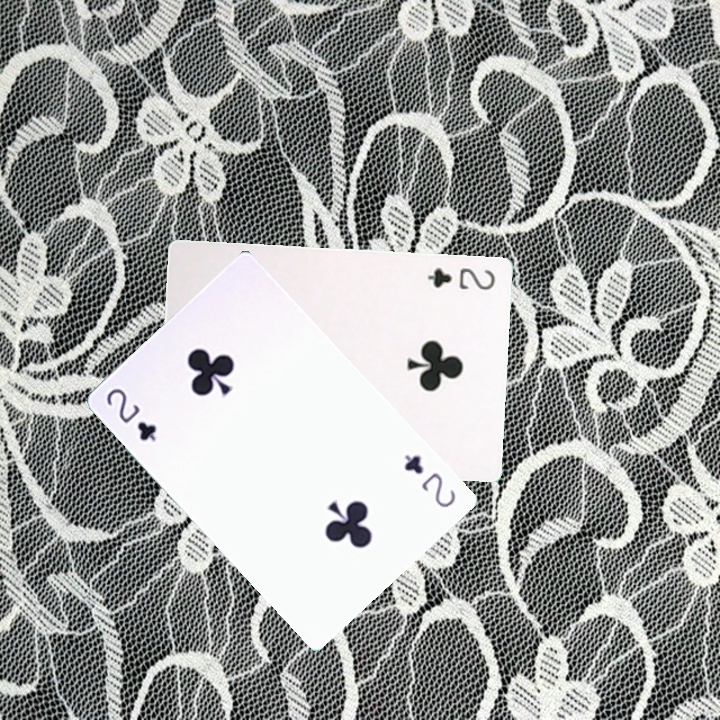2c: (400, 450, 459, 511), (102, 384, 159, 445), (423, 263, 497, 293)
